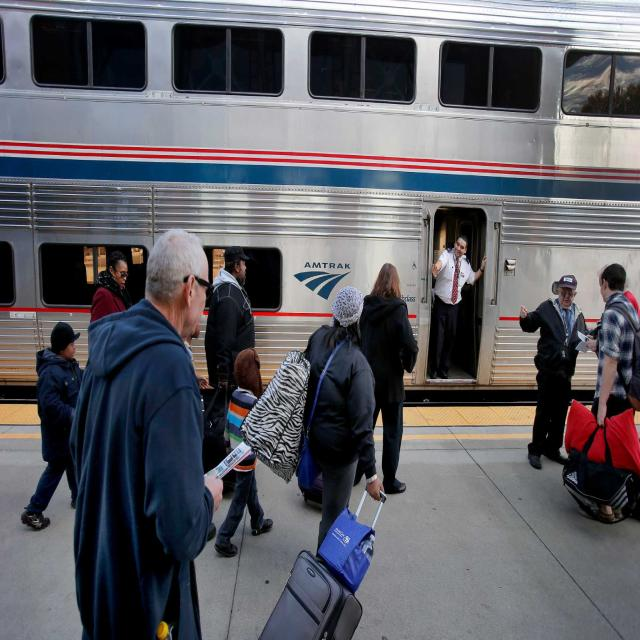body: (67, 227, 227, 640), (300, 284, 386, 560), (518, 273, 602, 470), (355, 261, 420, 495), (20, 320, 86, 532), (213, 346, 274, 558), (428, 234, 488, 380), (203, 244, 256, 384), (583, 263, 640, 353), (586, 260, 640, 353), (88, 248, 130, 326), (182, 318, 210, 396)
